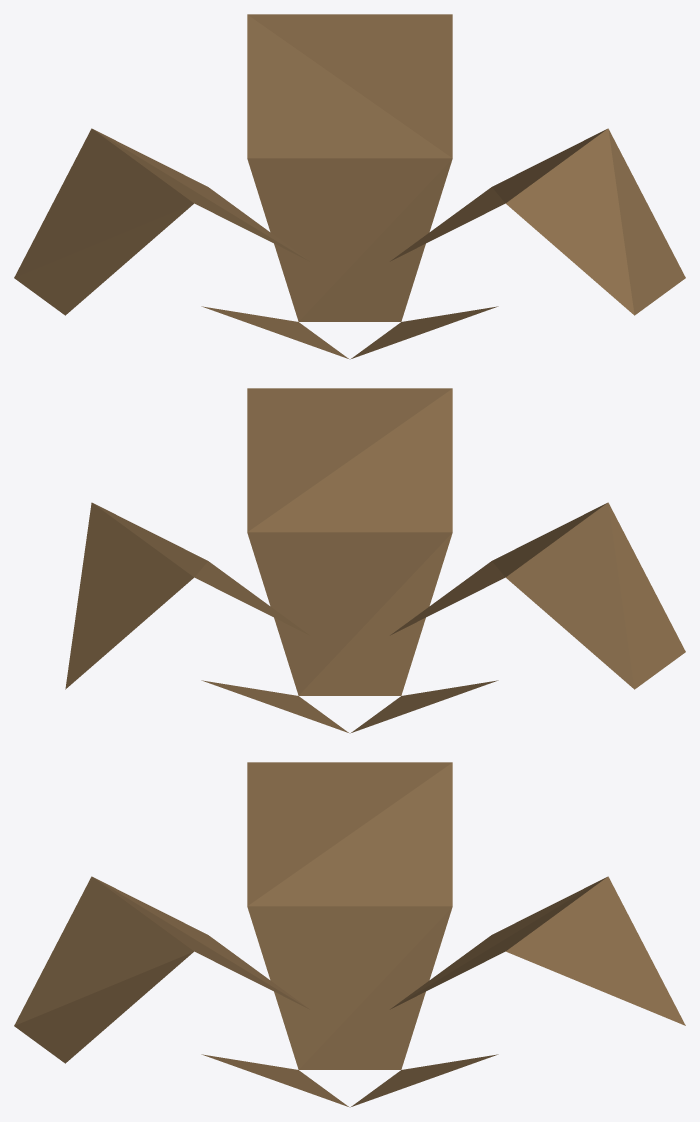
The model's file is fern_dry.glb.
The picture shows the model from 3 angles, top to bottom: view 1: azimuth 30°, elevation 25°; view 2: azimuth 150°, elevation 25°; view 3: azimuth 270°, elevation 25°; orthographic projection.
Parts seen in each view (by area): view 1: fern_dry; view 2: fern_dry; view 3: fern_dry.
Part boxes in pixels (x1,y1,x2,y2): fern_dry: (14, 14, 685, 359); fern_dry: (65, 388, 685, 733); fern_dry: (14, 762, 685, 1107).
Bounding box in the file's own units: 1.44 × 0.6 × 1.67.
